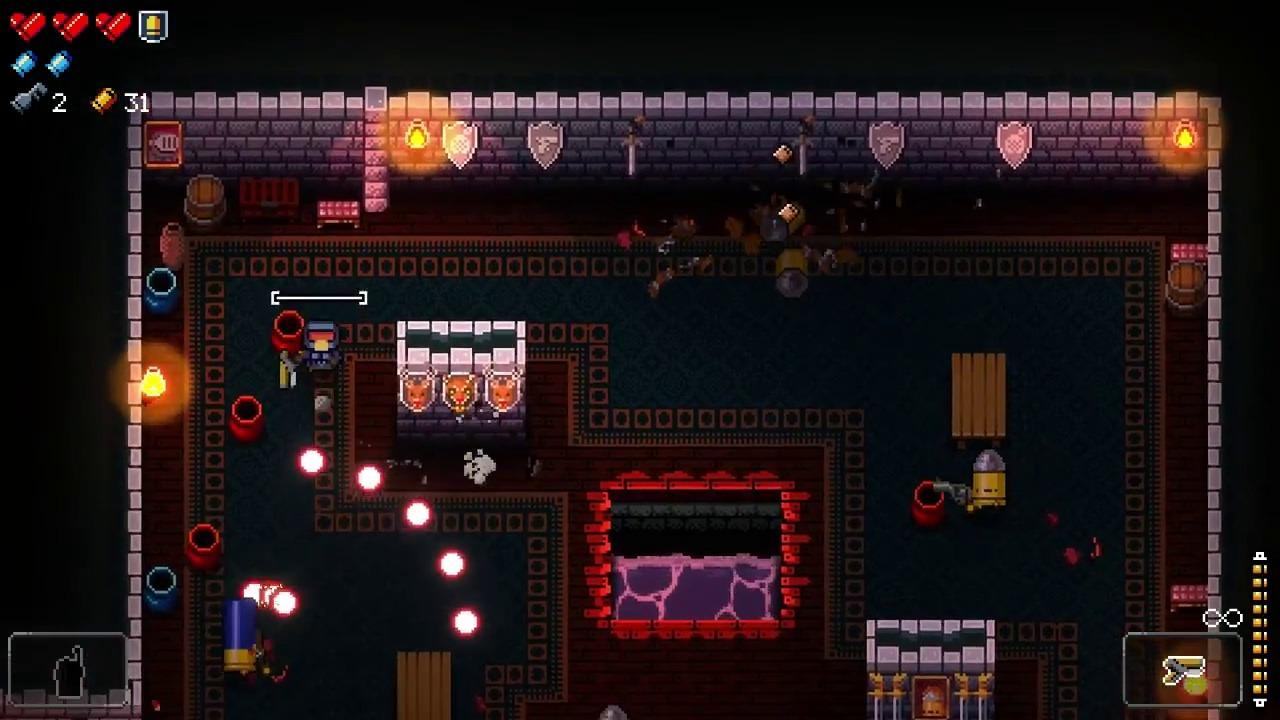blue_shotgun_kin: (222, 597, 259, 675)
bullet: (240, 581, 268, 615), (404, 499, 431, 531), (453, 610, 481, 639), (301, 447, 328, 477), (440, 549, 464, 579), (272, 591, 299, 616), (357, 465, 380, 492)
bullet_kin: (968, 451, 1008, 508)
dead_bullet_kin: (779, 250, 808, 299)
player: (303, 321, 343, 372)
table: (951, 350, 1007, 449), (399, 654, 451, 720)
water_pit: (584, 468, 812, 646)
